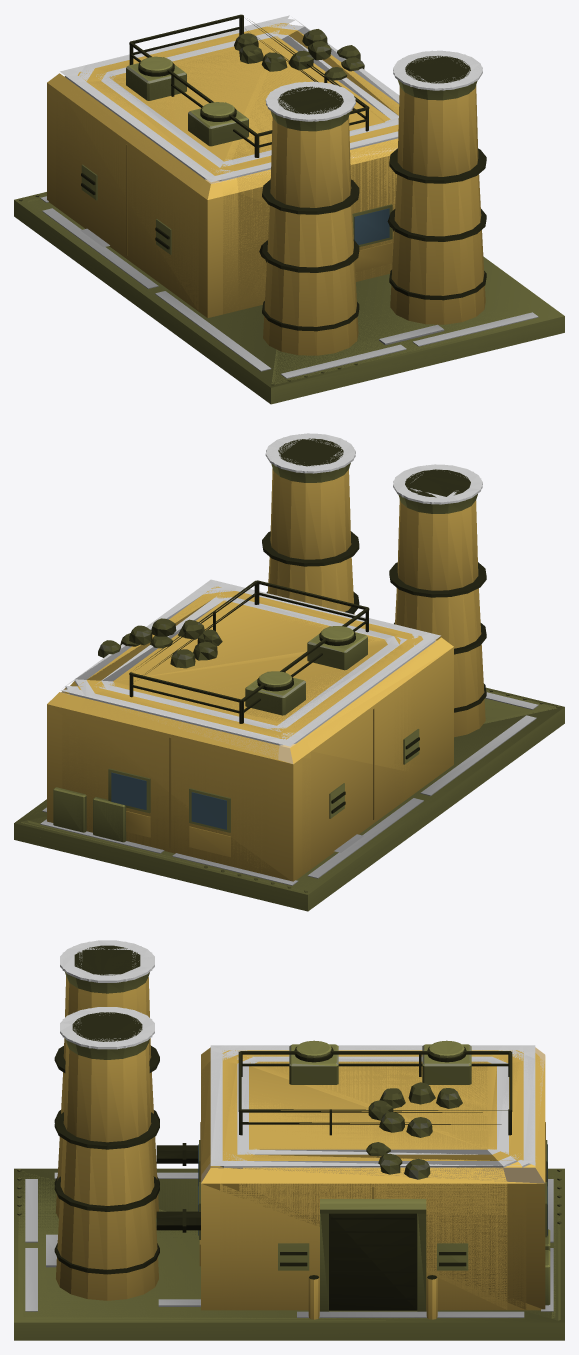
Rendered from meridian_power_plant_damaged.glb.
3 views of the same model, one above another, from view 1: azimuth 30°, elevation 25°; view 2: azimuth 150°, elevation 25°; view 3: azimuth 270°, elevation 25° (orthographic). The views are drawn at different scales.
Visible parts, largest first — view 1: body (×3); view 2: body (×3); view 3: body (×3).
Part boxes in pixels (<box>): body (×3): <box>14,14,564,404</box>; body (×3): <box>14,433,564,911</box>; body (×3): <box>14,940,564,1340</box>.
Bounding box in the file's own units: 7.4 × 6.05 × 11.2.
